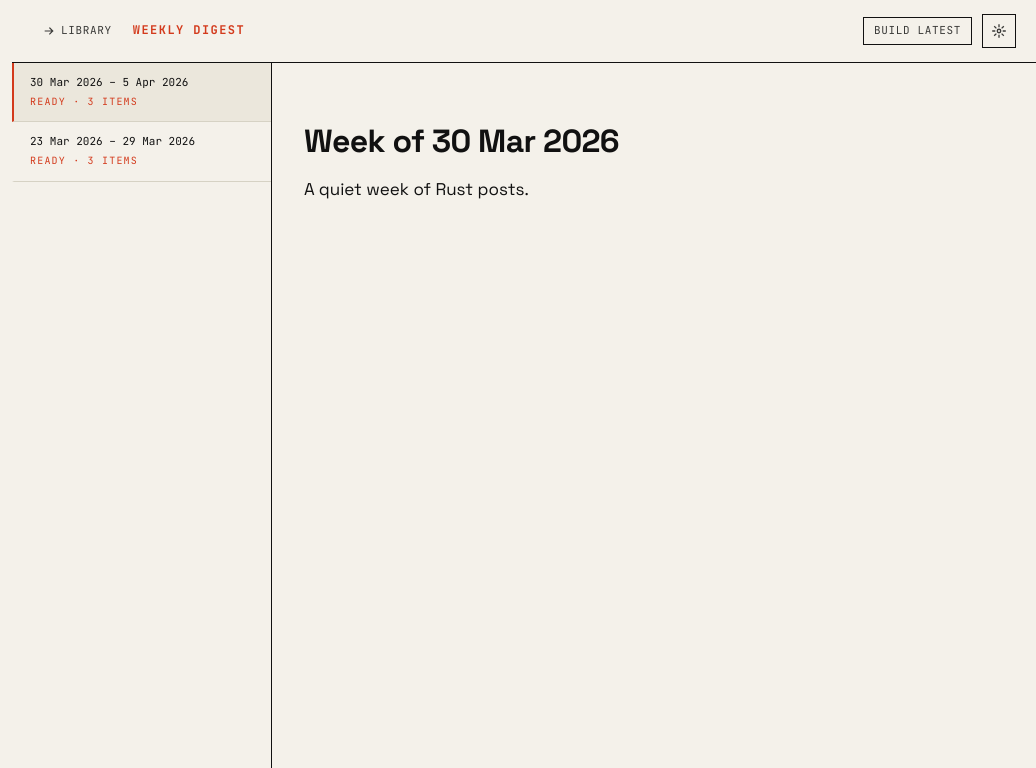
Test: DigestPage › switches panes when another week is selected
The image size is (1036, 768).
Expected: the text "A quiet week of Rust posts." is shown, top-left (304, 178), bottom-right (529, 200)
Click the text "23 Mar 2026 – 29 Mar 2026" at (112, 141), box top-left (30, 134), bottom-right (195, 148)
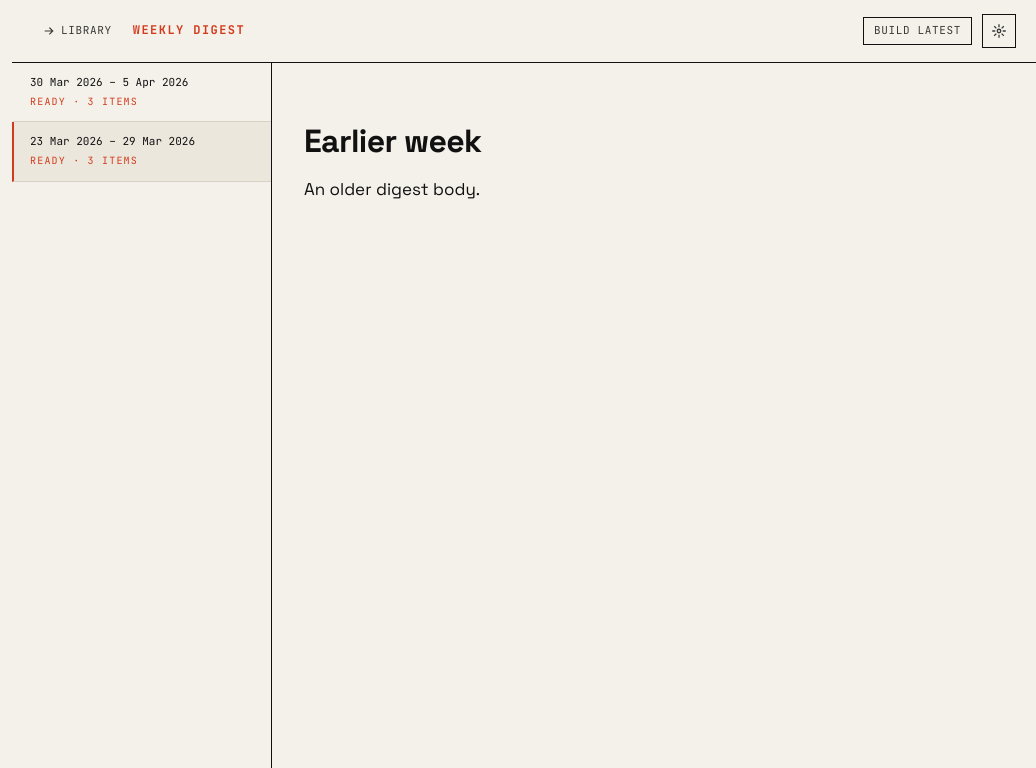
Expected: the text "An older digest body." is shown, top-left (304, 178), bottom-right (480, 200)
